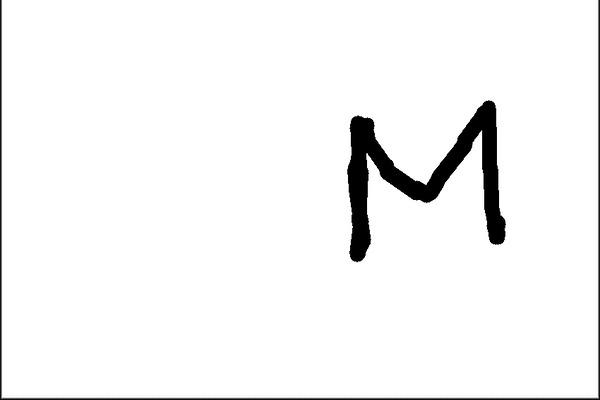M: (342, 101, 511, 262)
